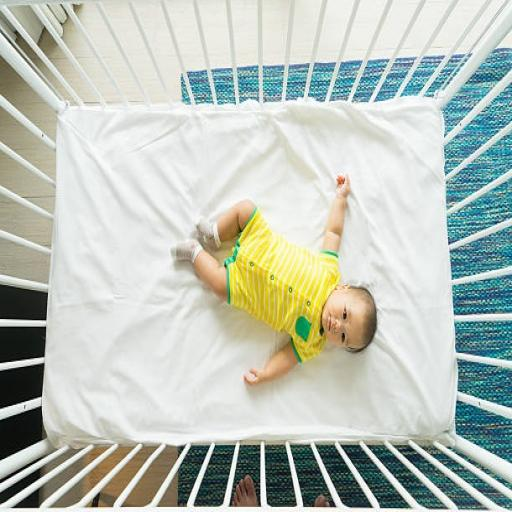baby: (172, 176, 376, 384)
crib: (0, 0, 511, 508)
